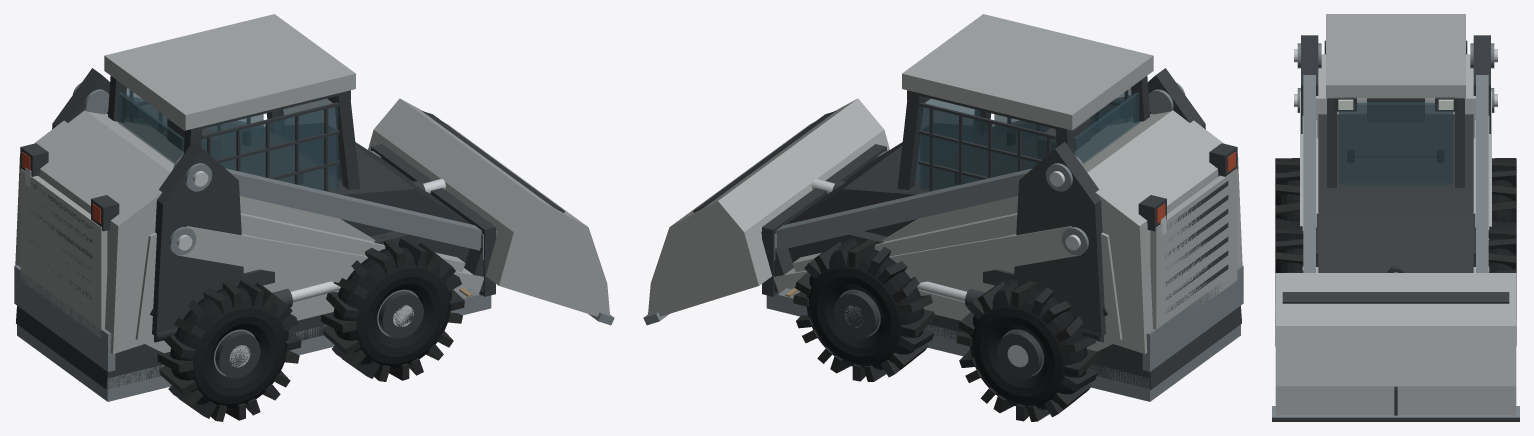
File: bobcat-s76-2-structural-study.glb
3 renders of one model, left to right at view 1: azimuth 30°, elevation 25°; view 2: azimuth 150°, elevation 25°; view 3: azimuth 270°, elevation 25°, orthographic. The views are drawn at different scales.
Visible parts, largest first — view 1: Standard74BucketShell_Reconstructed, CabRoof, EngineHousing_Upper, Chassis_MainMonocoque, RearServiceDoor, LiftTower_L, Tire_Rear_L, Tire_Front_L, CabSideGlass_L, VerticalLift_UpperLink_L, VerticalLift_MainArm_L, SideServicePanel_L (+19 smaller); view 2: Standard74BucketShell_Reconstructed, CabRoof, EngineHousing_Upper, Chassis_MainMonocoque, LiftTower_R, RearServiceDoor, Tire_Front_R, Tire_Rear_R, CabSideGlass_R, VerticalLift_UpperLink_R, VerticalLift_MainArm_R, SideServicePanel_R (+20 smaller); view 3: Standard74BucketShell_Reconstructed, Chassis_MainMonocoque, CabRoof, CabFrontDoorGlass, BucketTopTorqueTube, VerticalLift_UpperLink_L, VerticalLift_UpperLink_R, BucketCuttingEdge, EngineHousing_Upper, OperatorSeatBack, LiftTower_L, LiftTower_R (+22 smaller).
Part boxes in pixels (x1,y1,x2,y2): Standard74BucketShell_Reconstructed: [368, 98, 609, 316]; CabRoof: [104, 14, 355, 130]; EngineHousing_Upper: [15, 110, 183, 354]; Chassis_MainMonocoque: [16, 127, 481, 389]; RearServiceDoor: [20, 169, 107, 338]; LiftTower_L: [152, 142, 244, 336]; Tire_Rear_L: [170, 286, 288, 410]; Tire_Front_L: [333, 246, 451, 370]; CabSideGlass_L: [201, 106, 338, 190]; VerticalLift_UpperLink_L: [225, 168, 481, 250]; VerticalLift_MainArm_L: [177, 226, 483, 293]; SideServicePanel_L: [135, 196, 375, 353]; Standard74BucketShell_Reconstructed: [648, 98, 889, 316]; CabRoof: [902, 14, 1153, 130]; EngineHousing_Upper: [1074, 110, 1242, 353]; Chassis_MainMonocoque: [786, 127, 1241, 389]; LiftTower_R: [1014, 142, 1105, 336]; RearServiceDoor: [1150, 169, 1237, 329]; Tire_Front_R: [806, 246, 924, 370]; Tire_Rear_R: [970, 286, 1087, 409]; CabSideGlass_R: [919, 106, 1056, 190]; VerticalLift_UpperLink_R: [776, 168, 1032, 250]; VerticalLift_MainArm_R: [774, 226, 1080, 293]; SideServicePanel_R: [882, 196, 1122, 351]; Standard74BucketShell_Reconstructed: [1275, 273, 1516, 415]; Chassis_MainMonocoque: [1318, 114, 1473, 272]; CabRoof: [1326, 14, 1465, 98]; CabFrontDoorGlass: [1338, 102, 1453, 185]; BucketTopTorqueTube: [1282, 292, 1509, 303]; VerticalLift_UpperLink_L: [1303, 75, 1315, 272]; VerticalLift_UpperLink_R: [1476, 75, 1488, 272]; BucketCuttingEdge: [1272, 406, 1519, 421]; EngineHousing_Upper: [1316, 54, 1475, 138]; OperatorSeatBack: [1367, 98, 1424, 122]; LiftTower_L: [1301, 35, 1318, 133]; LiftTower_R: [1473, 35, 1490, 133].
Bounding box in the file's own units: 3.62 × 2.08 × 1.88.
